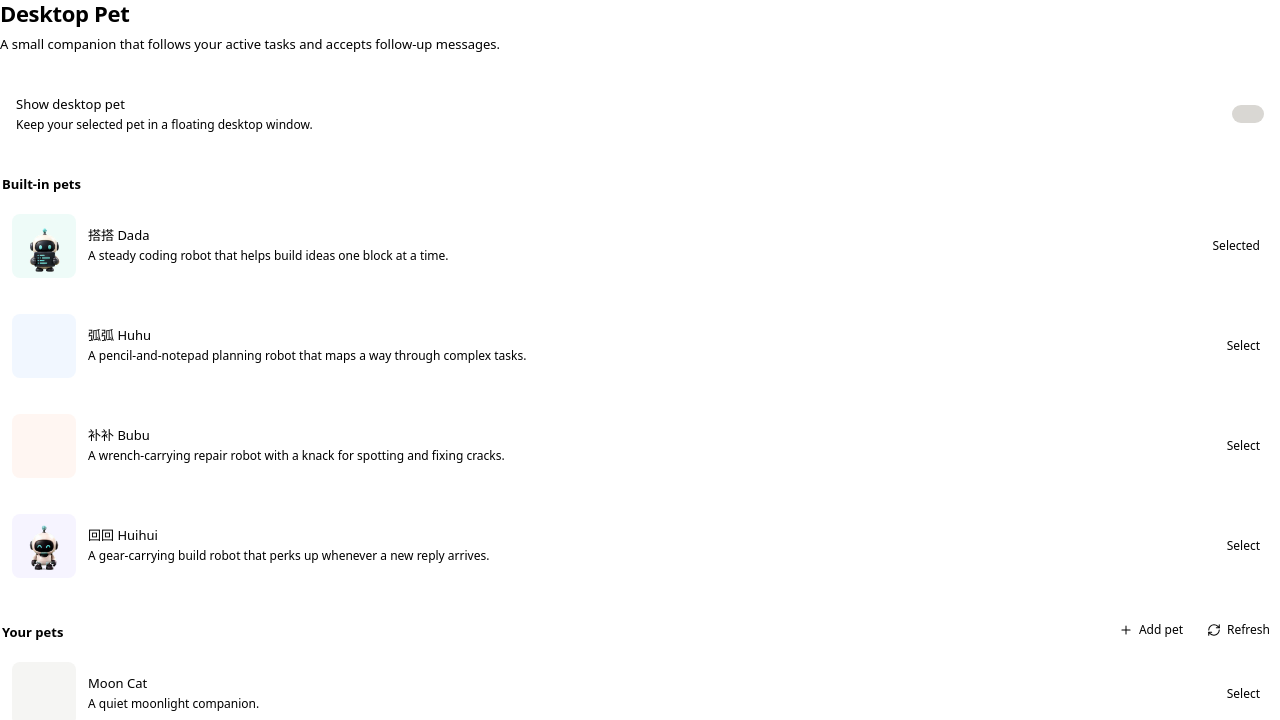
Test: PetSettings › walks the AI path through the prompt and template before asking for a file
Click the button "Add pet".
click(1151, 630)  # box [1111,618,1191,642]
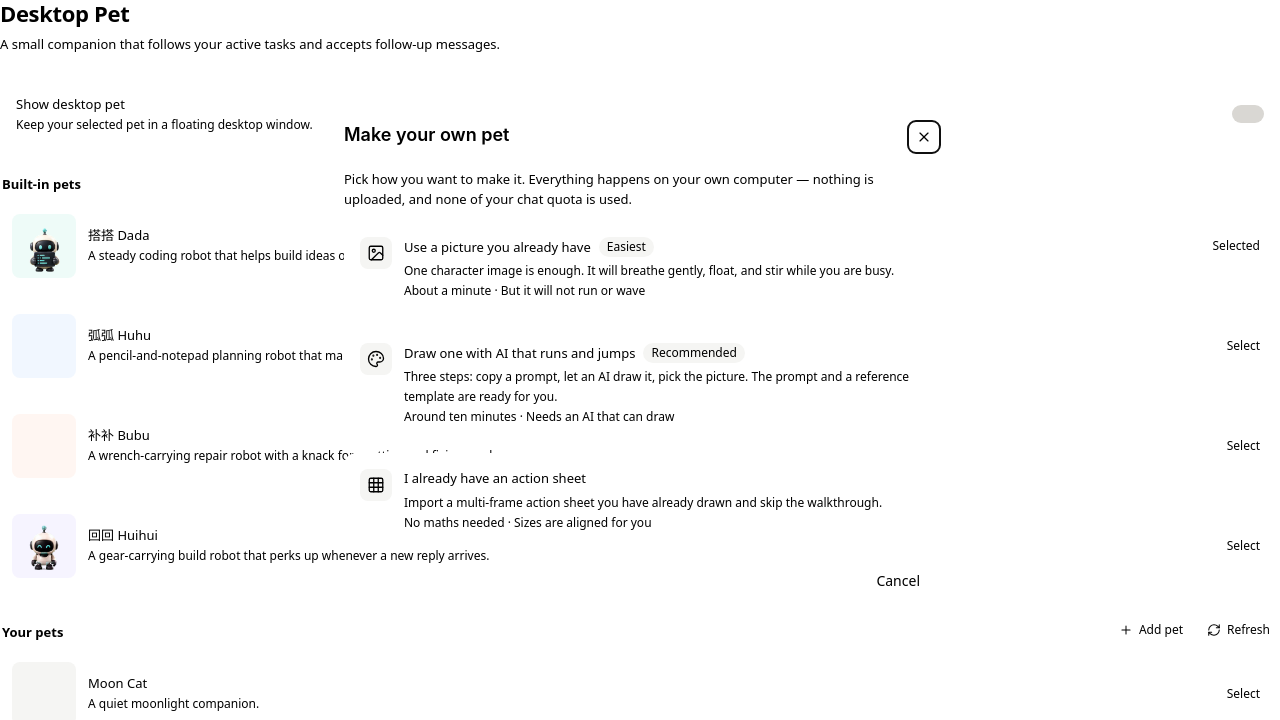
Click the button "Draw one with AI that runs and jumps".
click(640, 384)  # box [344,327,936,441]
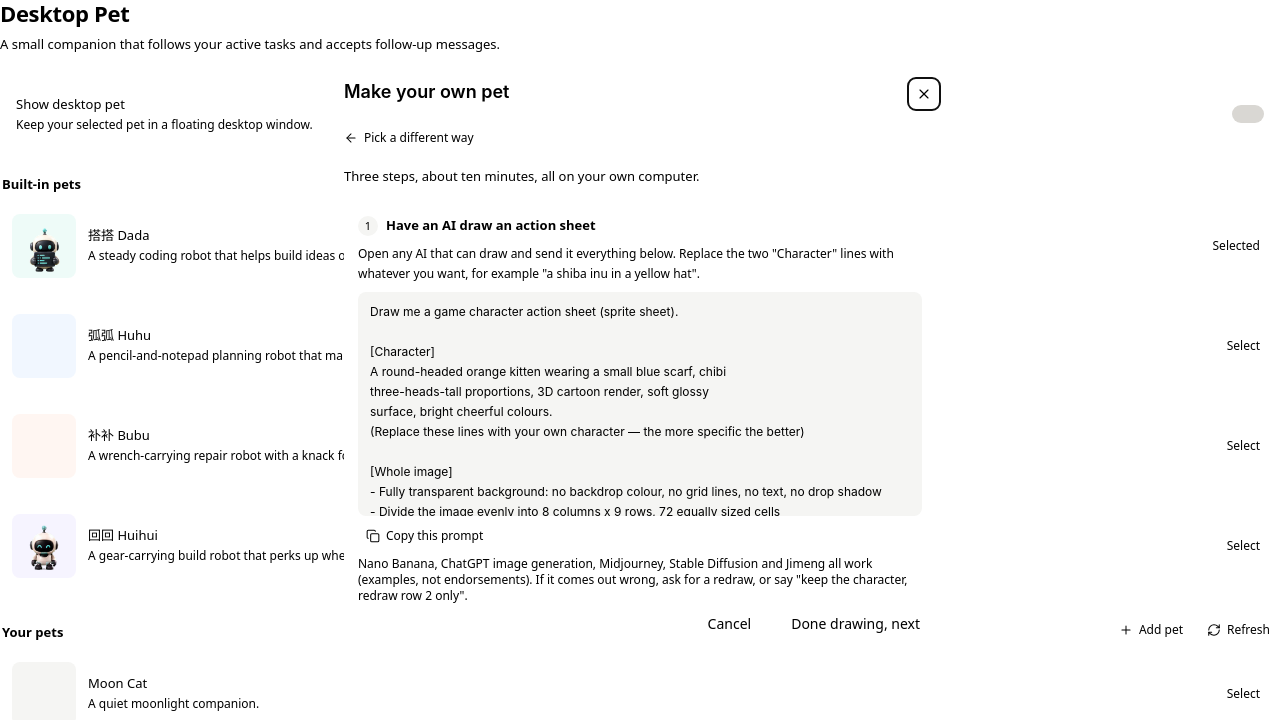
Click the button "Copy this prompt".
click(425, 536)  # box [358,524,491,548]
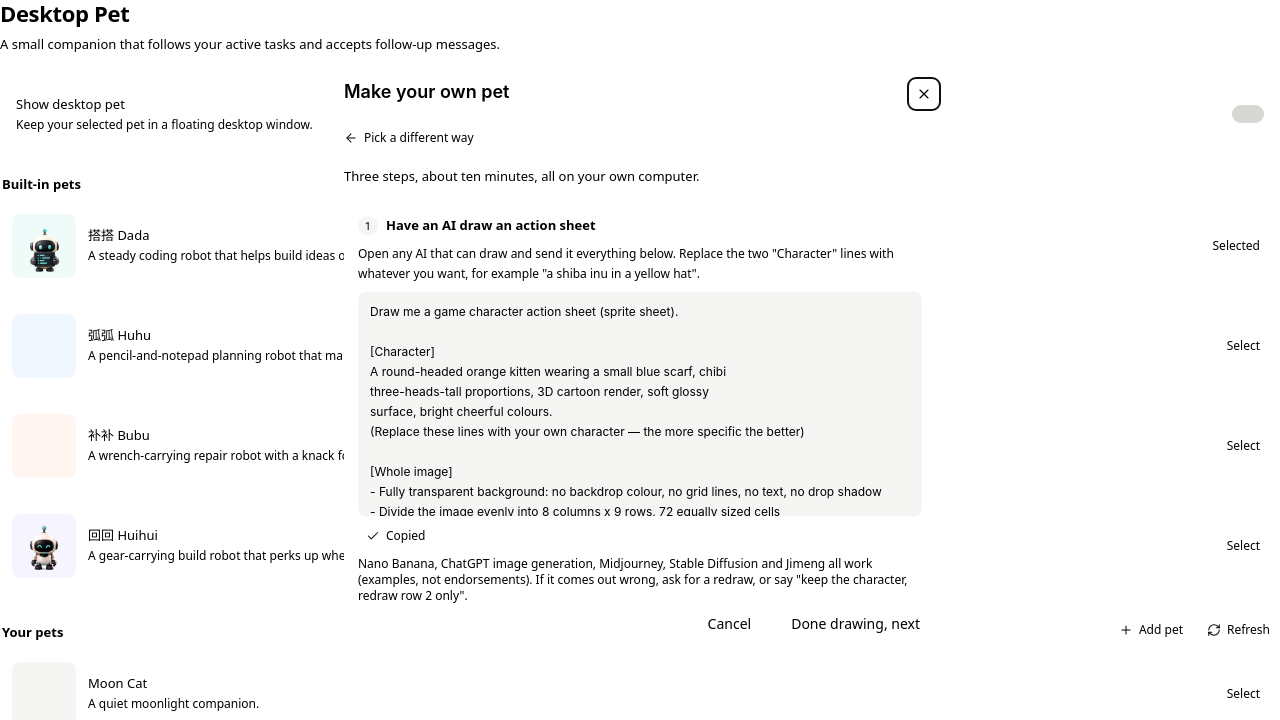
Expected: the field labelled "Pet ID" is not shown
Click the button "Done drawing, next".
click(856, 624)  # box [775,606,936,642]
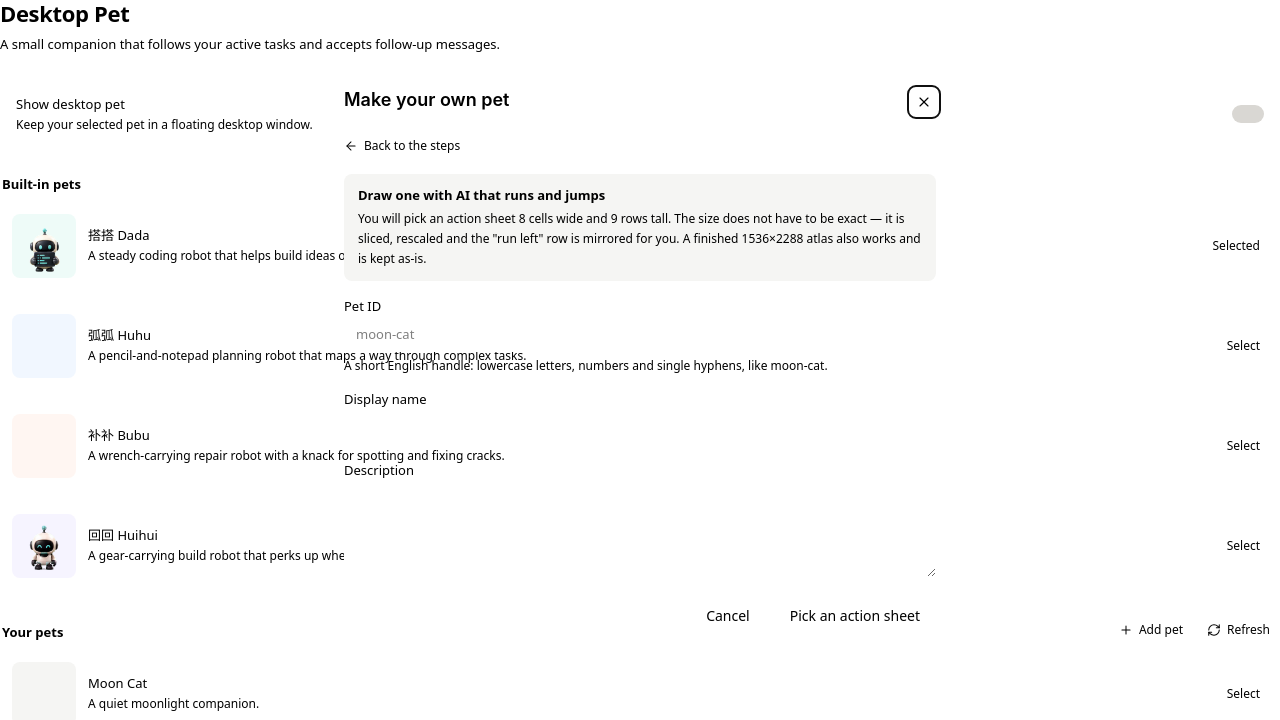
Now the field labelled "Pet ID" is shown, box [344,317,936,352]
Now the button "Back to the steps" is shown, box [344,134,460,158]
Now the heading "Draw one with AI that runs and jumps" is shown, box [358,186,605,204]
